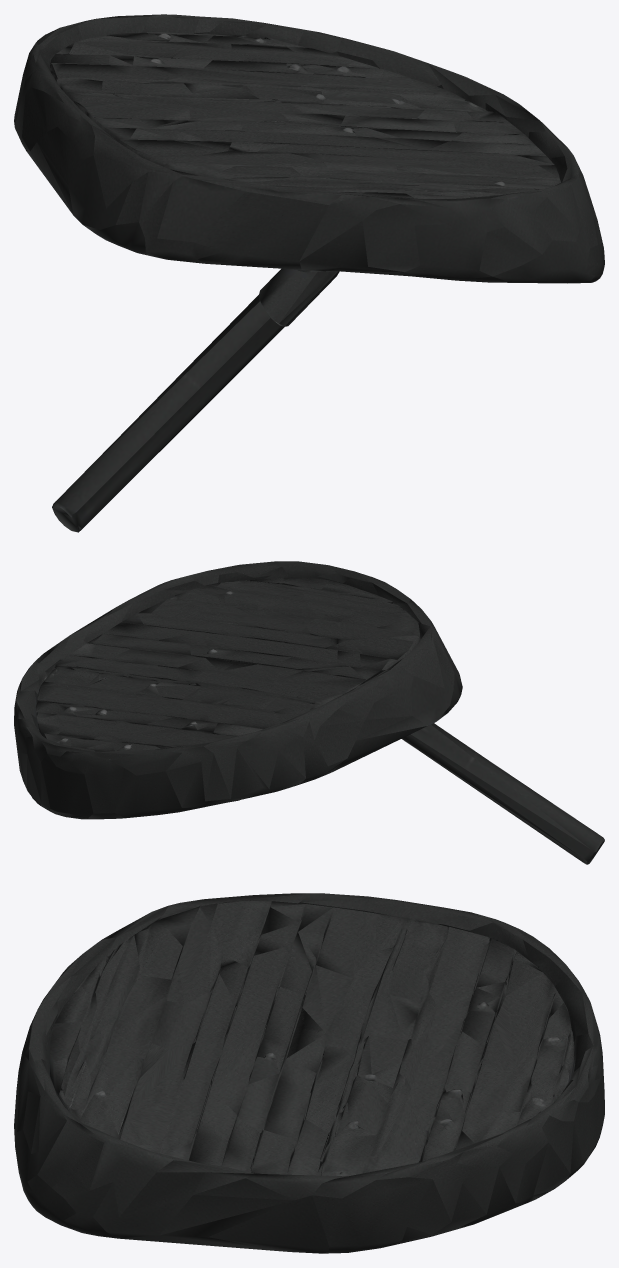
File: club-wood.glb
3 renders of one model, top to bottom at view 1: azimuth 30°, elevation 25°; view 2: azimuth 150°, elevation 25°; view 3: azimuth 270°, elevation 25°, orthographic. The views are drawn at different scales.
Parts seen in each view (by area): view 1: club-wood; view 2: club-wood; view 3: club-wood.
Part boxes in pixels (x1,y1,x2,y2): club-wood: (14, 14, 604, 532); club-wood: (14, 561, 604, 864); club-wood: (14, 893, 604, 1253).
Size of the model in its own units: 1.03 by 0.4936 by 0.927.
Materials: 1 (1 with a texture image).
